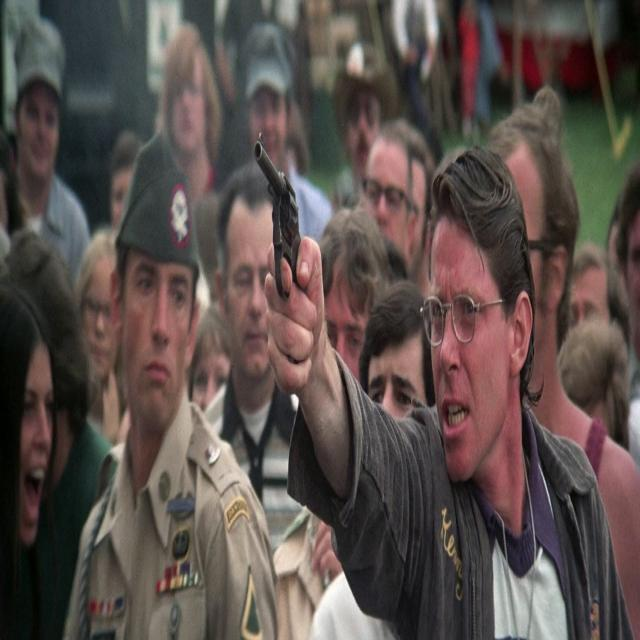gun-knife-thesis - v11 Yolov5 augmented: (248, 123, 316, 360)
